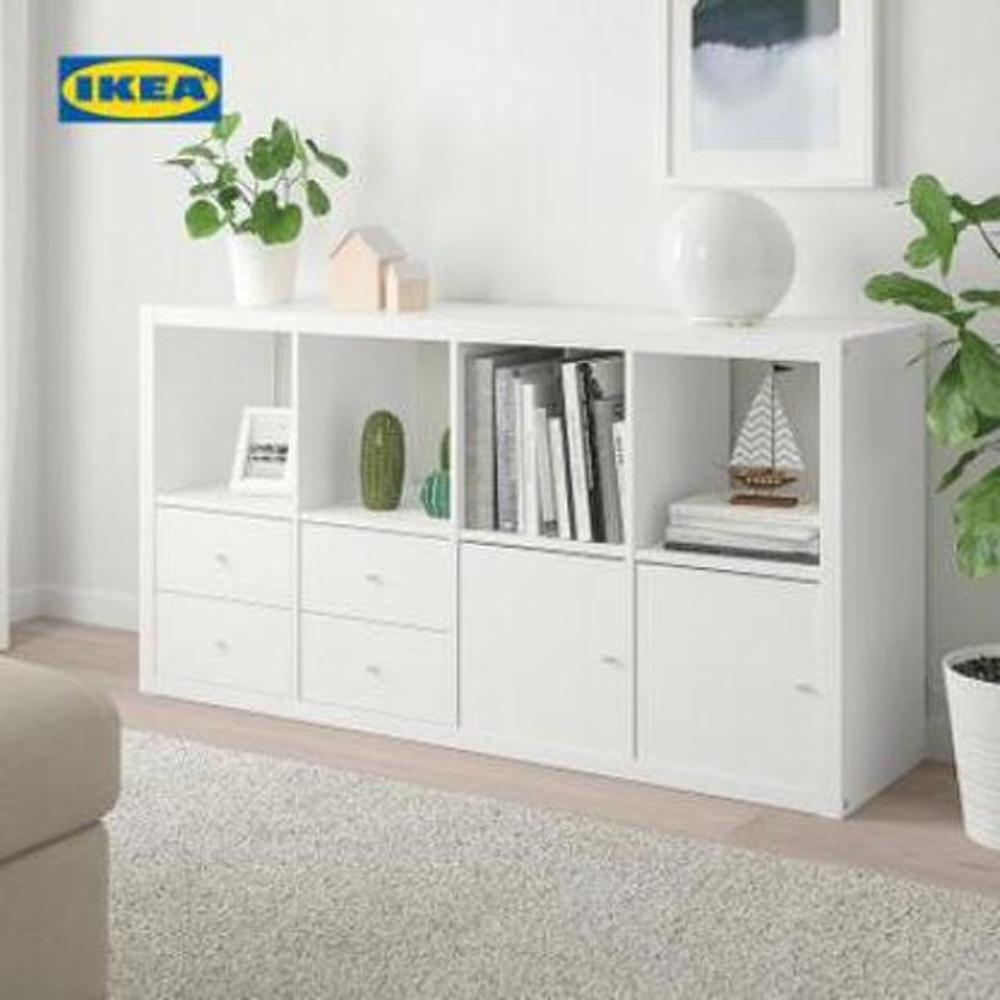lamp: (135, 298, 930, 827)
